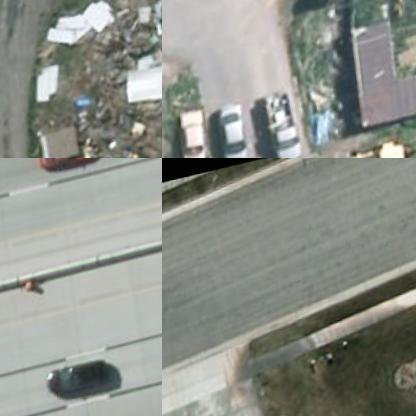car: (40, 354, 116, 407), (162, 107, 215, 157), (213, 104, 257, 157), (33, 158, 106, 180)
pickup: (253, 88, 310, 157)
